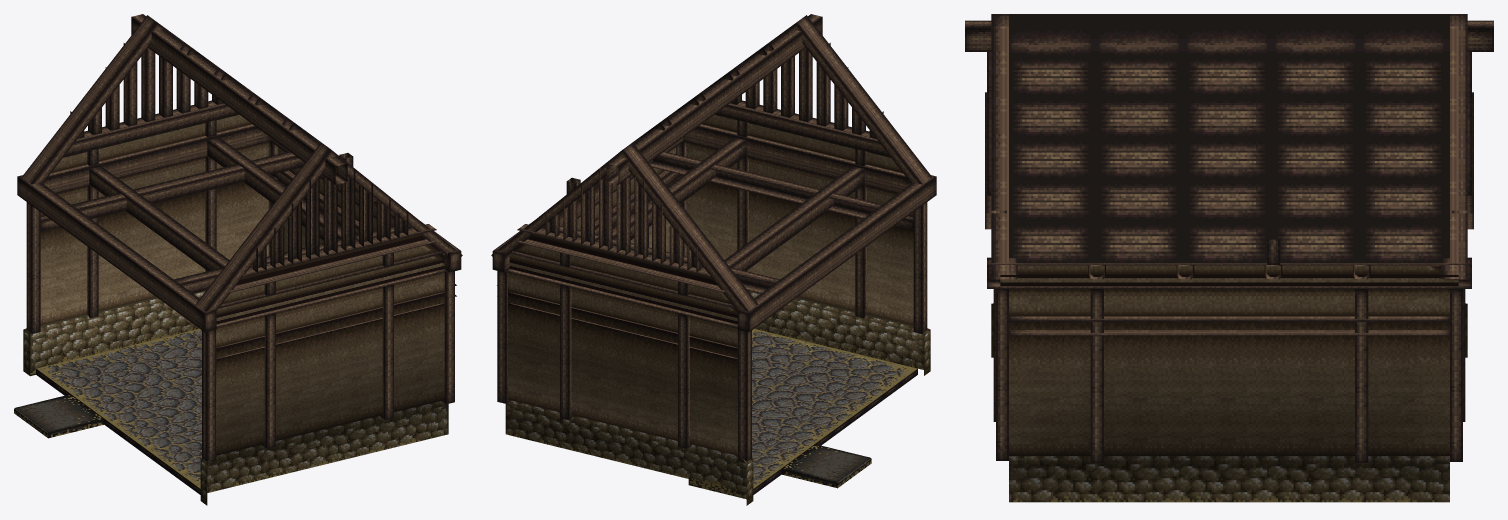
File: EnvBdgMD_Desert_A_Indoor_House_D.FBX
The picture shows the model from 3 angles, left to right: view 1: azimuth 30°, elevation 25°; view 2: azimuth 150°, elevation 25°; view 3: azimuth 270°, elevation 25°; orthographic projection. The views are drawn at different scales.
Visible parts, largest first — view 1: EnvBdgMD_Desert_A_Indoor_House_D; view 2: EnvBdgMD_Desert_A_Indoor_House_D; view 3: EnvBdgMD_Desert_A_Indoor_House_D.
Boxes of the visible parts, left/top/right/bottom form: EnvBdgMD_Desert_A_Indoor_House_D: left=14, top=14, right=462, bottom=505; EnvBdgMD_Desert_A_Indoor_House_D: left=491, top=14, right=936, bottom=505; EnvBdgMD_Desert_A_Indoor_House_D: left=965, top=14, right=1493, bottom=502.
Bounding box in the file's own units: 1040 × 1056 × 1200.
